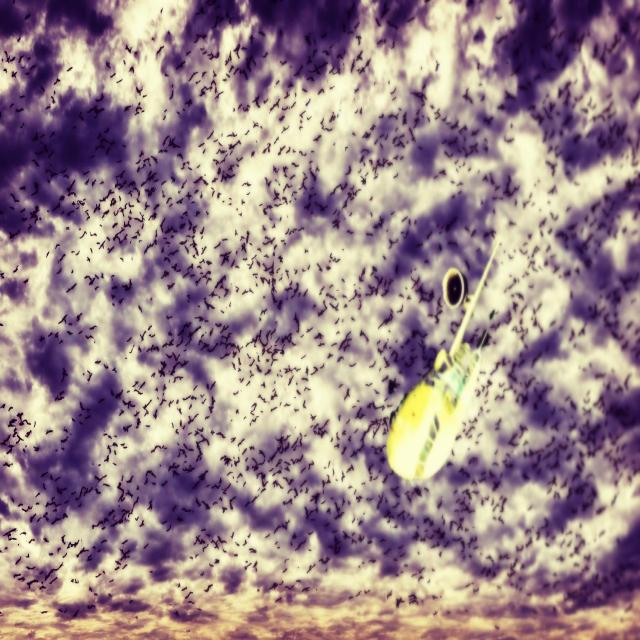airplane: (386, 232, 501, 483)
